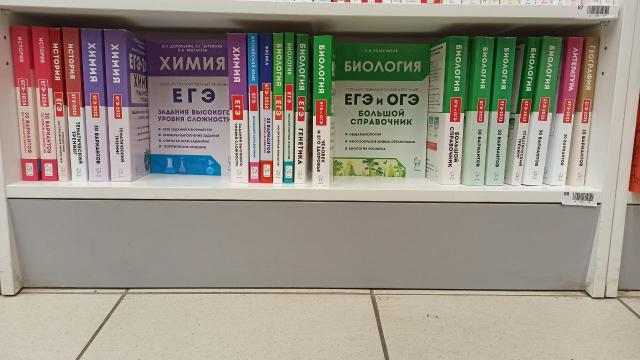book-s-spine: (527, 37, 562, 184), (553, 37, 583, 185), (487, 37, 516, 185), (11, 26, 38, 180), (512, 38, 540, 185), (81, 29, 108, 181), (32, 27, 57, 181), (468, 37, 494, 185), (105, 29, 130, 181), (443, 37, 468, 184), (63, 28, 87, 181), (575, 38, 599, 186), (228, 33, 248, 182), (50, 28, 68, 181), (313, 36, 331, 187), (295, 34, 308, 183), (248, 34, 260, 183), (260, 34, 272, 183), (273, 33, 283, 184), (285, 33, 293, 183)
